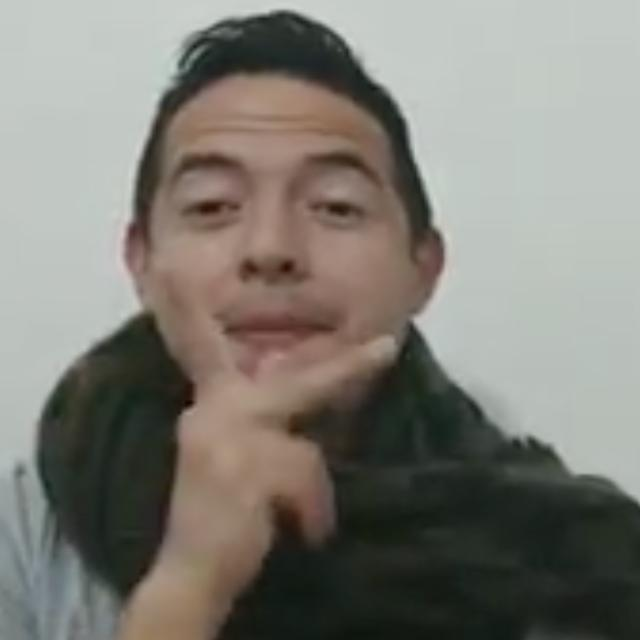PAPA: (154, 254, 398, 600)
